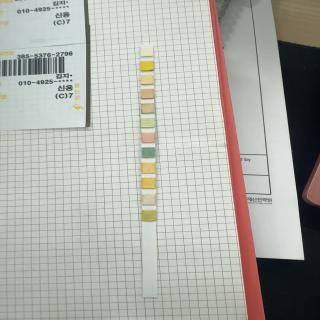mark: (143, 210, 156, 222), (142, 194, 156, 205), (141, 103, 155, 113), (140, 47, 153, 57), (141, 74, 154, 84), (141, 89, 154, 99), (141, 118, 154, 128), (142, 133, 155, 143), (142, 163, 155, 173), (142, 178, 155, 188), (142, 148, 154, 158), (141, 61, 154, 70)
